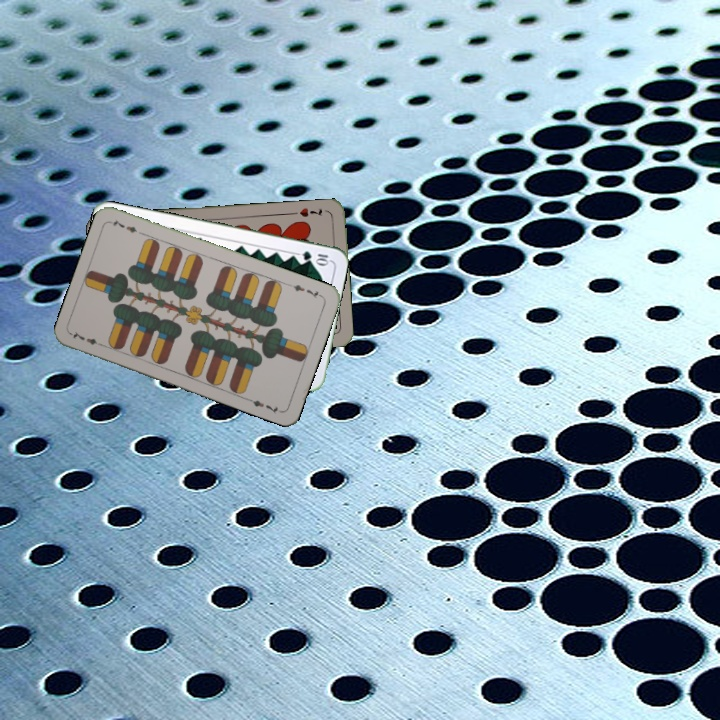E7: (68, 327, 107, 349), (286, 280, 325, 301)
G10: (298, 247, 332, 267)
H7: (295, 204, 325, 220)
